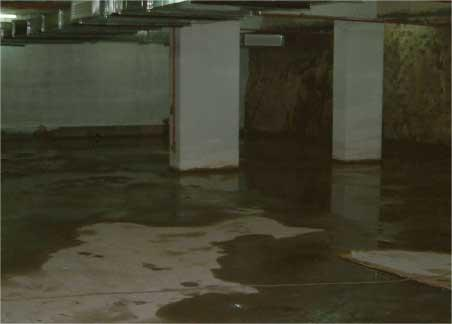water accumulation: (0, 142, 452, 324)
